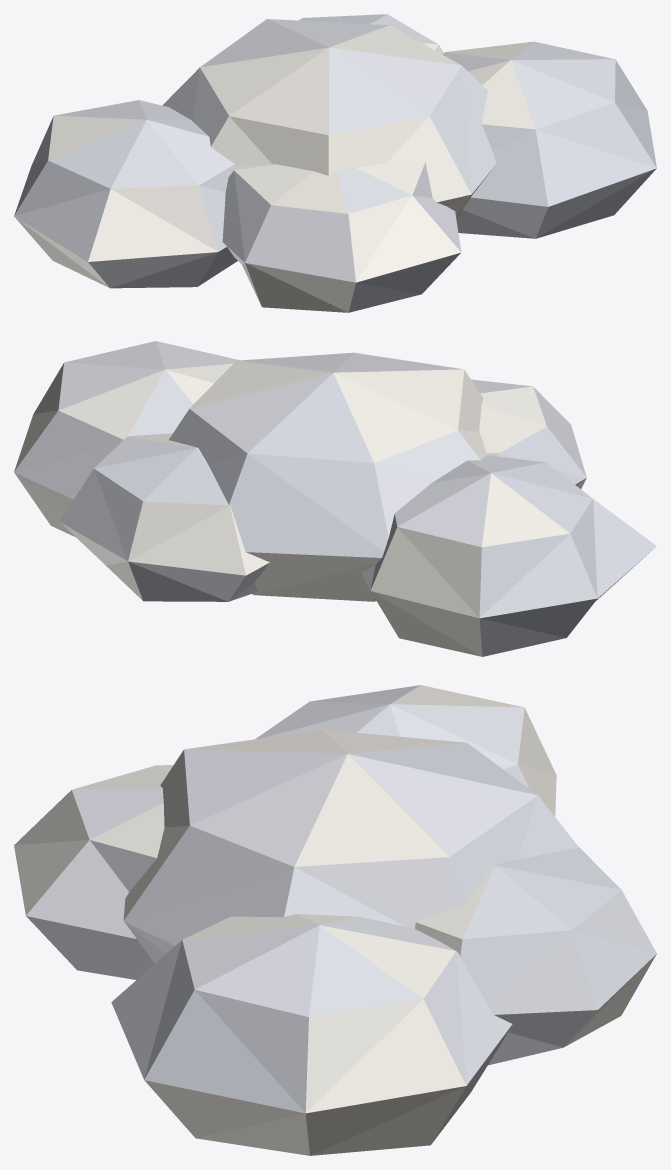
Rendered from SM_FogPuff.fbx.
3 renders of one model, top to bottom at view 1: azimuth 30°, elevation 25°; view 2: azimuth 150°, elevation 25°; view 3: azimuth 270°, elevation 25°, orthographic. The views are drawn at different scales.
Parts seen in each view (by area): view 1: SM_FogPuff; view 2: SM_FogPuff; view 3: SM_FogPuff.
Boxes of the visible parts, x1,y1,x2,y2 form: SM_FogPuff: [14, 14, 656, 312]; SM_FogPuff: [14, 341, 656, 656]; SM_FogPuff: [14, 685, 656, 1155].
Bounding box in the file's own units: 12.68 × 3.74 × 9.15.
